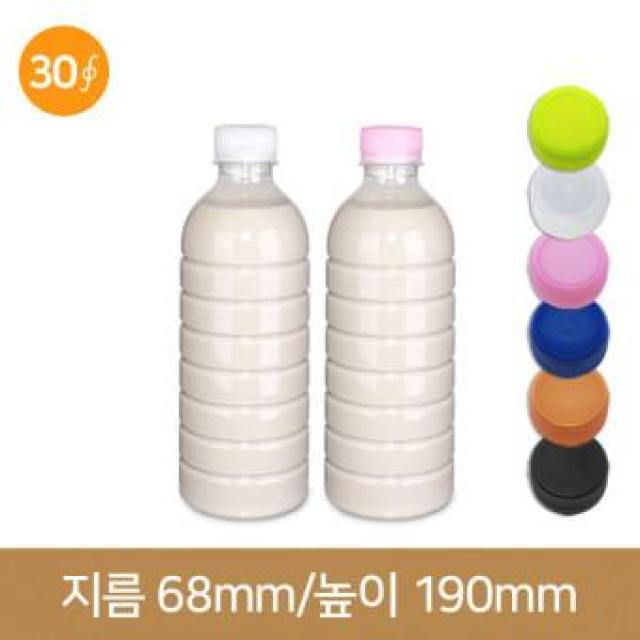bottle: (317, 129, 451, 519), (180, 129, 308, 519)
